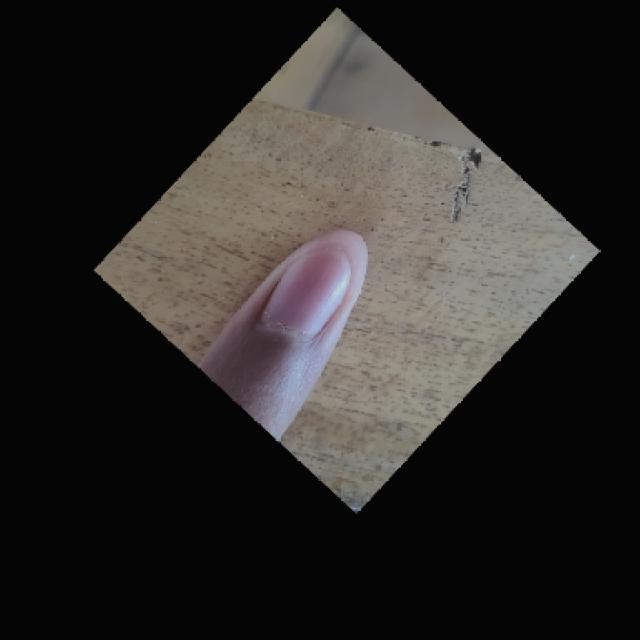Nail: (262, 250, 350, 335)
